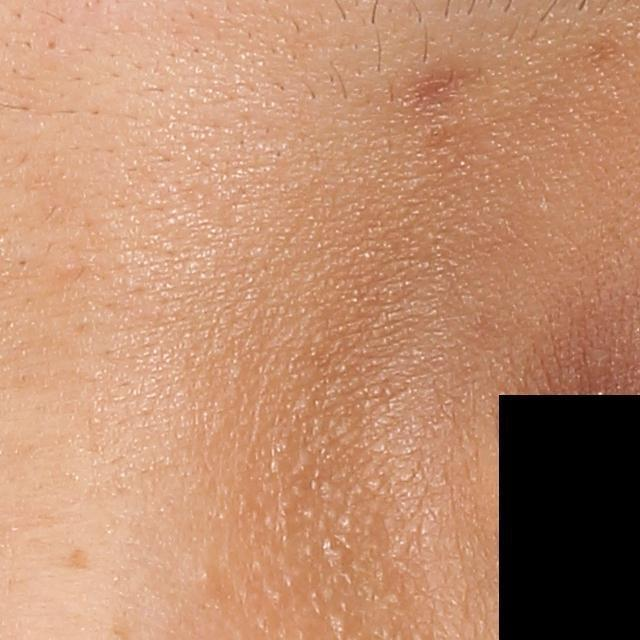comedo: (60, 251, 82, 276), (42, 32, 59, 59), (15, 247, 33, 271), (198, 566, 217, 586)
melasma: (60, 543, 93, 572)
